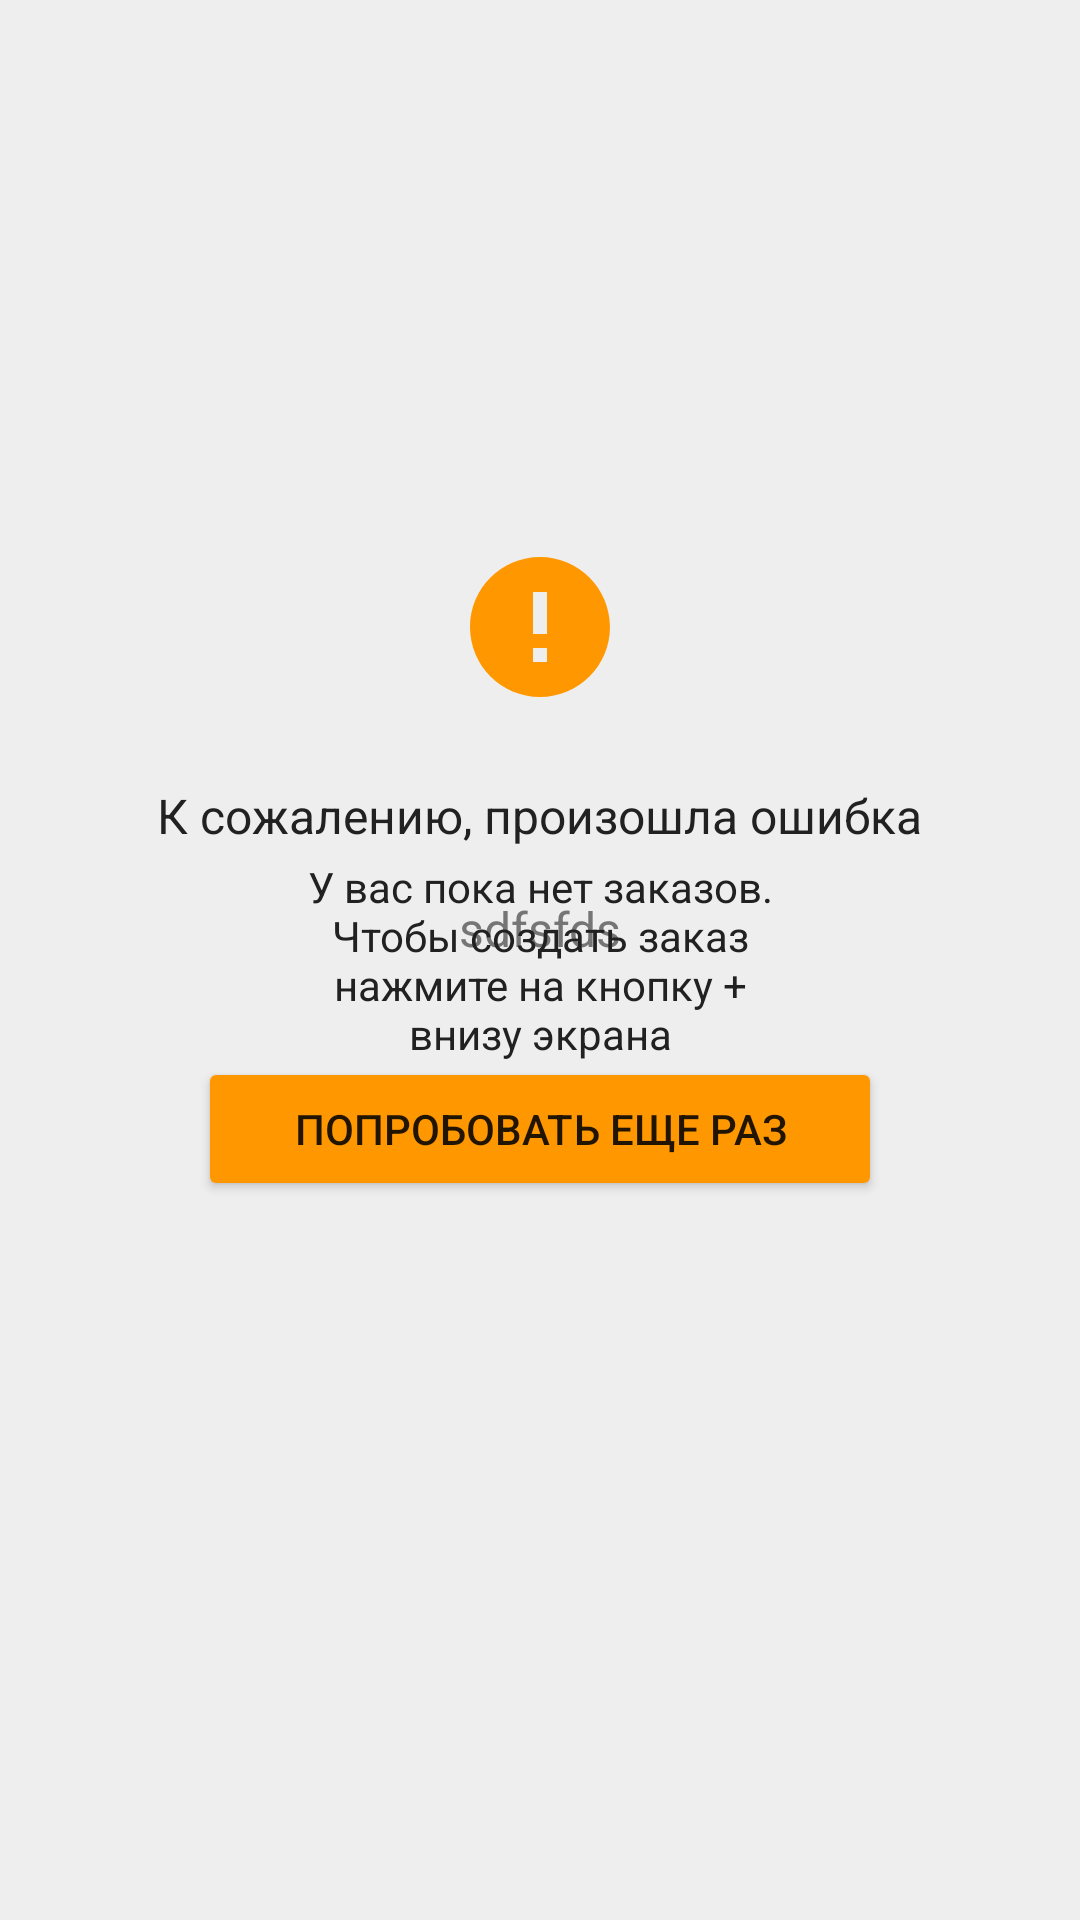

Where icons sit on this 1080x1920 app screen, as bbox(x1, y1, x2, y2):
error: bbox(470, 557, 610, 697)
